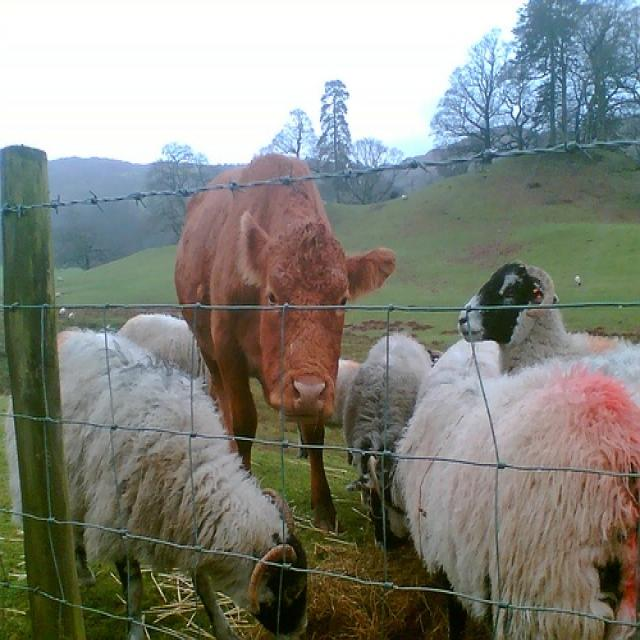cow: (172, 153, 396, 532)
sheep: (13, 330, 308, 638), (398, 365, 639, 638), (457, 259, 639, 418), (348, 331, 437, 552)
